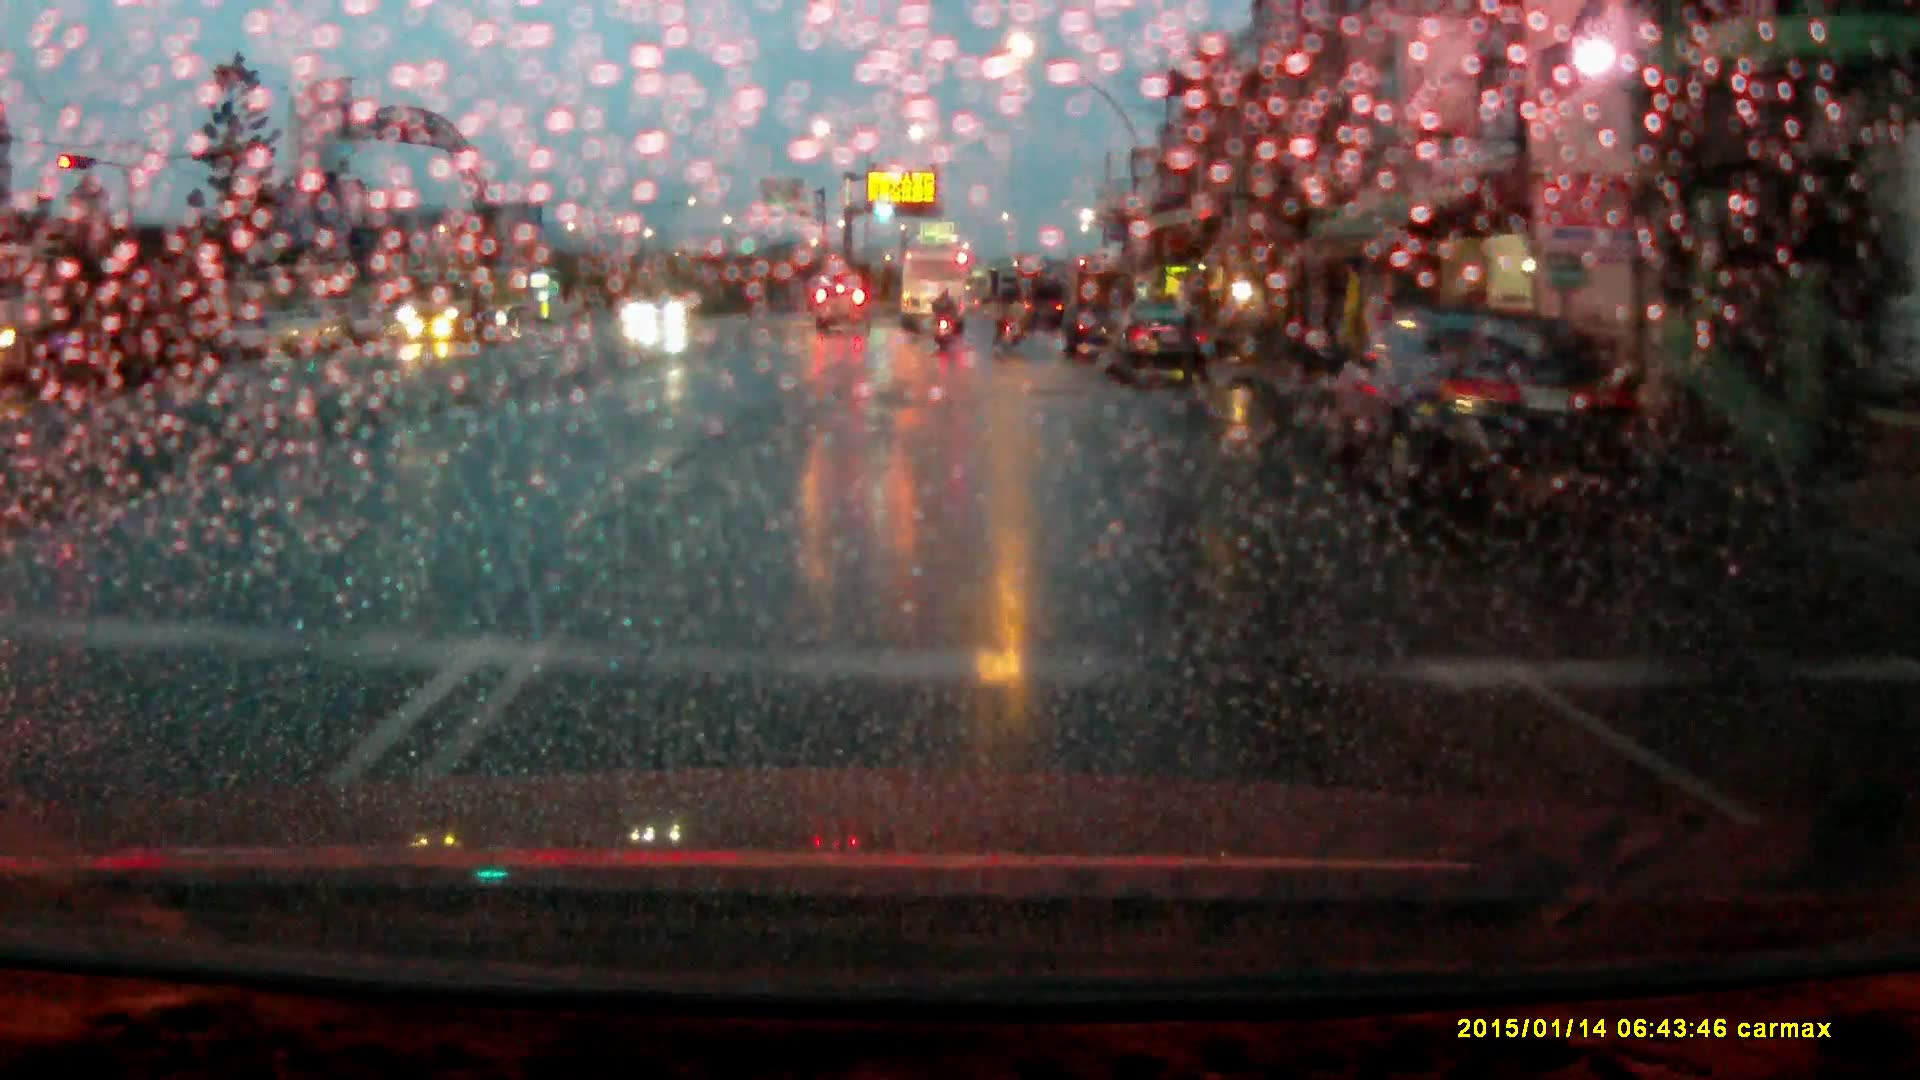rider: (932, 288, 958, 351)
vehicle: (1333, 314, 1627, 512), (1, 242, 221, 396), (395, 265, 529, 343), (1108, 307, 1212, 386), (900, 245, 972, 332), (812, 283, 876, 337), (638, 293, 688, 328)
